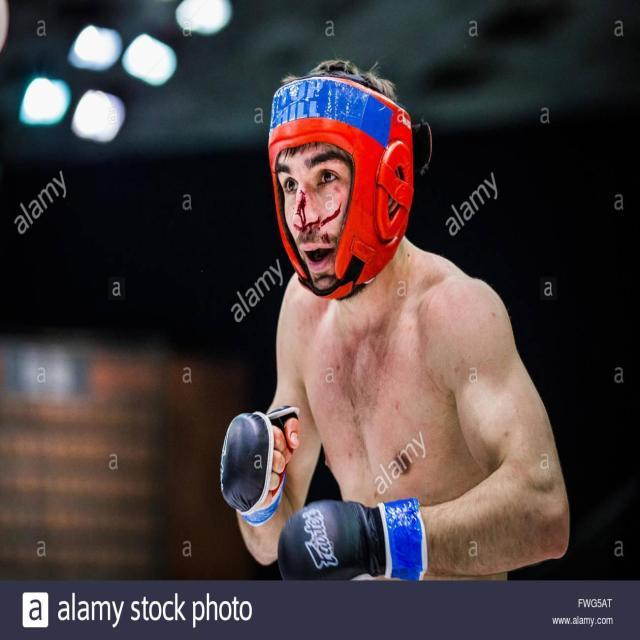flood: (282, 182, 348, 242)
